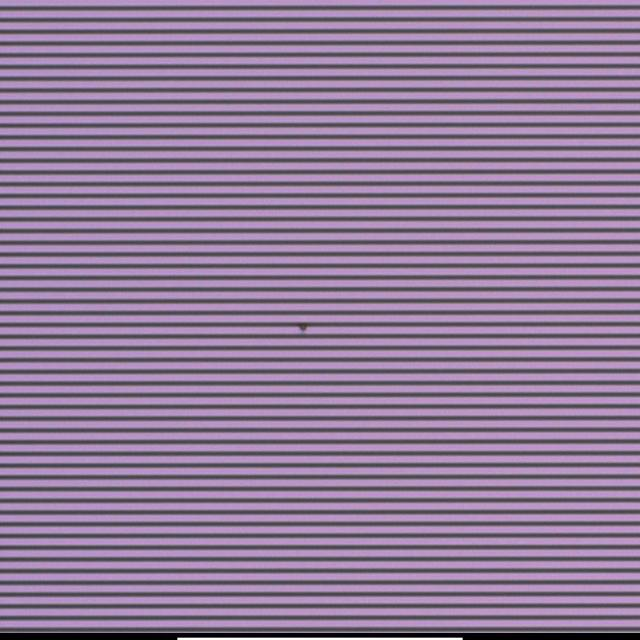03_intrusion: (294, 321, 309, 336)
